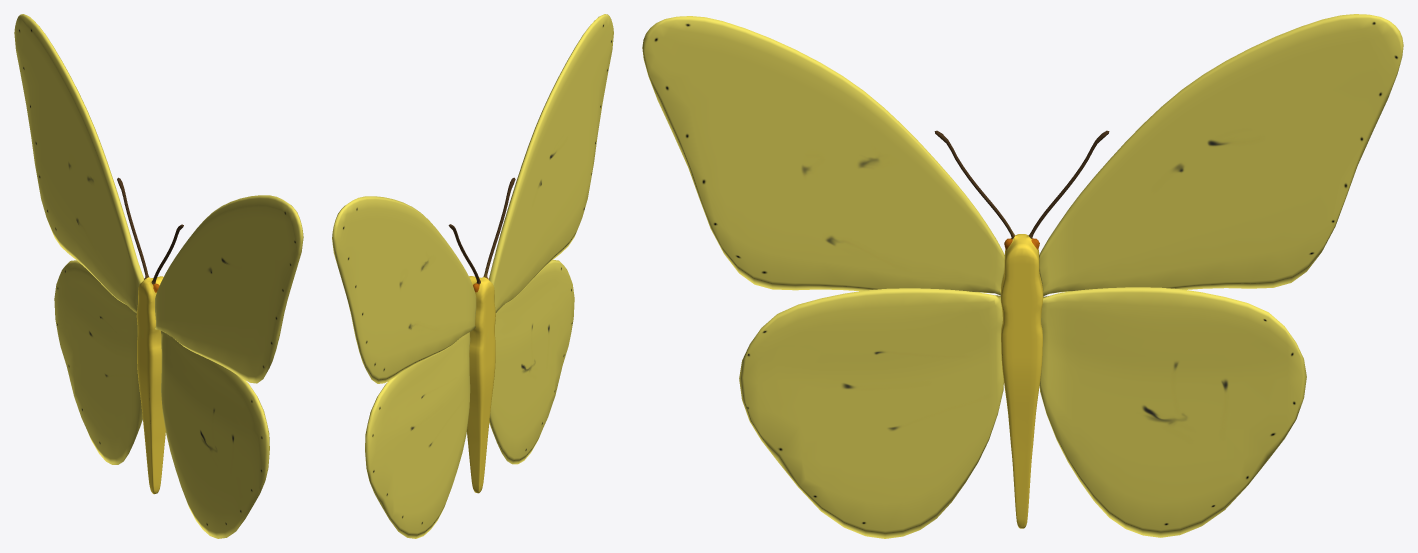
The model's file is ButterflyModel_EuremaHecabe.fbx.
The picture shows the model from 3 angles, left to right: view 1: azimuth 30°, elevation 25°; view 2: azimuth 150°, elevation 25°; view 3: azimuth 270°, elevation 25°; orthographic projection. The views are drawn at different scales.
Parts seen in each view (by area): view 1: polySurface4, polySurface2, polySurface3; view 2: polySurface2, polySurface4, polySurface3; view 3: polySurface2, polySurface4, polySurface3.
Boxes of the visible parts, x1,y1,x2,y2 form: polySurface4: [155, 195, 303, 538]; polySurface2: [14, 14, 143, 464]; polySurface3: [117, 177, 183, 494]; polySurface2: [332, 196, 476, 538]; polySurface4: [489, 14, 613, 464]; polySurface3: [448, 177, 515, 493]; polySurface2: [1039, 14, 1403, 537]; polySurface4: [642, 16, 1004, 538]; polySurface3: [934, 130, 1109, 528].
Size of the model in its own units: 0.7075 by 11 by 14.51.
